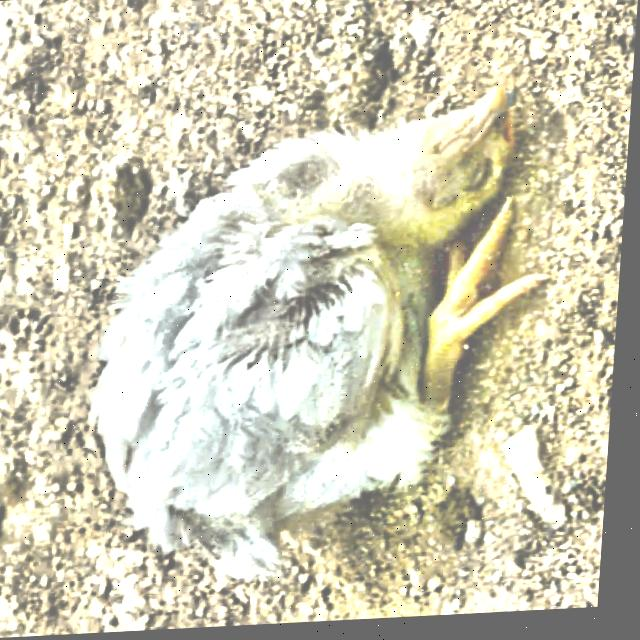Newcastle: (94, 86, 568, 593)
